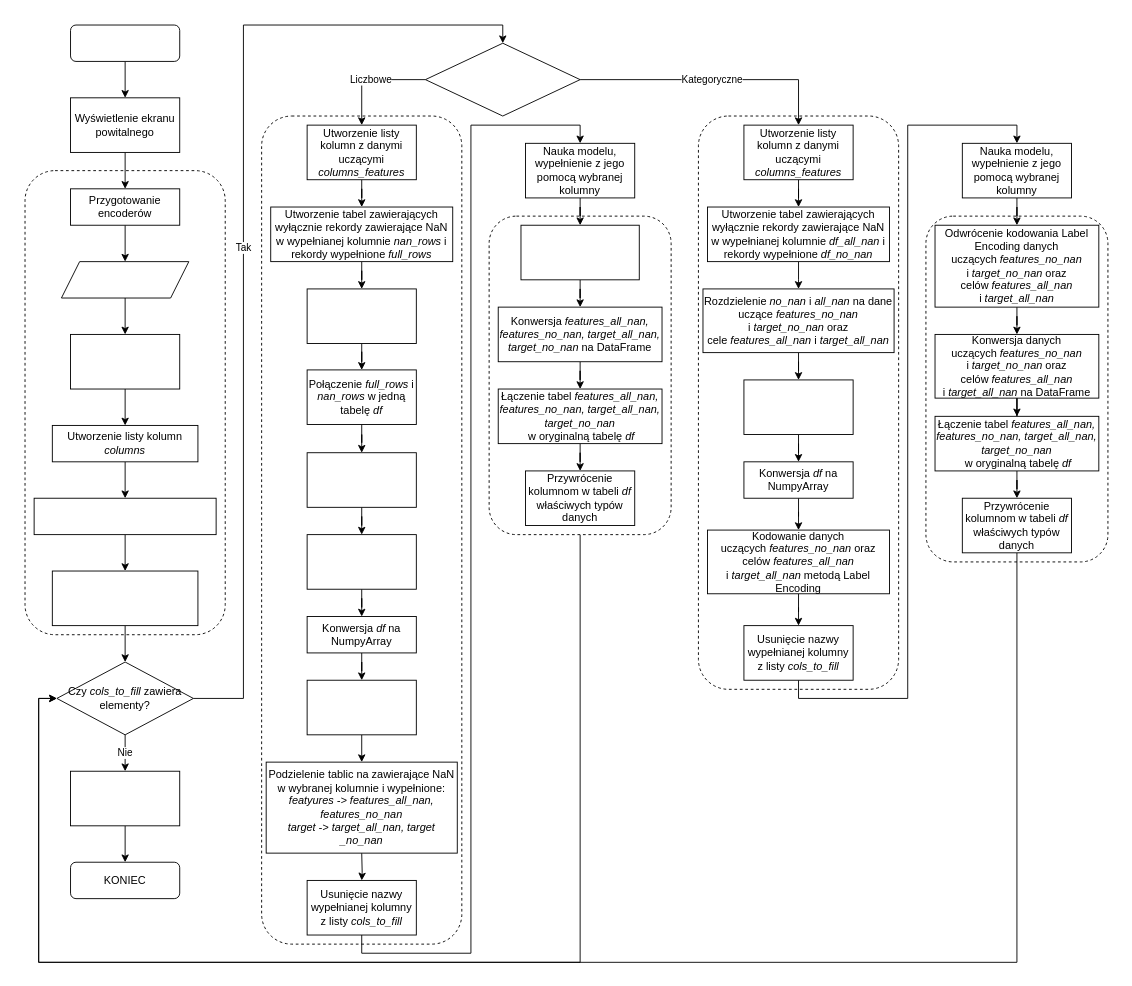
Image size: 1132x986. Some labels were removed from this diagram. Each missing label, with the centre of its shape:
Dodanie do tabeli df kolumny z ID rekordów: [125,361]
Jaki typ danych zawiera kolumna do wypełnienia?: [502,79]
Kodowanie danych uczących features metodą One Hot Encoding: [361,707]
Odwrócenie kodowania OHE danych uczących features_all_nan, features_no_nan: [579,252]
Rozdzielenie df na dane uczące features i cel target: [361,479]
START: [125,42]
Tymczasowe wypełnienie pustych miejsc w danych uczących: [361,561]
Utworzenie listy ID kolumn z danymi kategorycznymi cat_arr: [798,407]
Utworzenie listy kolumn z danymi kategorycznymi cols_with_objects: [124,516]
Utworzenie posortowanej listy kolumn do wypełnienia cols_to_fill: [124,598]
Wczytanie pliku do tabeli typu DataFrame df: [125,279]
Zapisanie ID ostatniego rekordu w full_rows - last_full_id: [361,316]
Zapisz df do pliku: [125,798]
